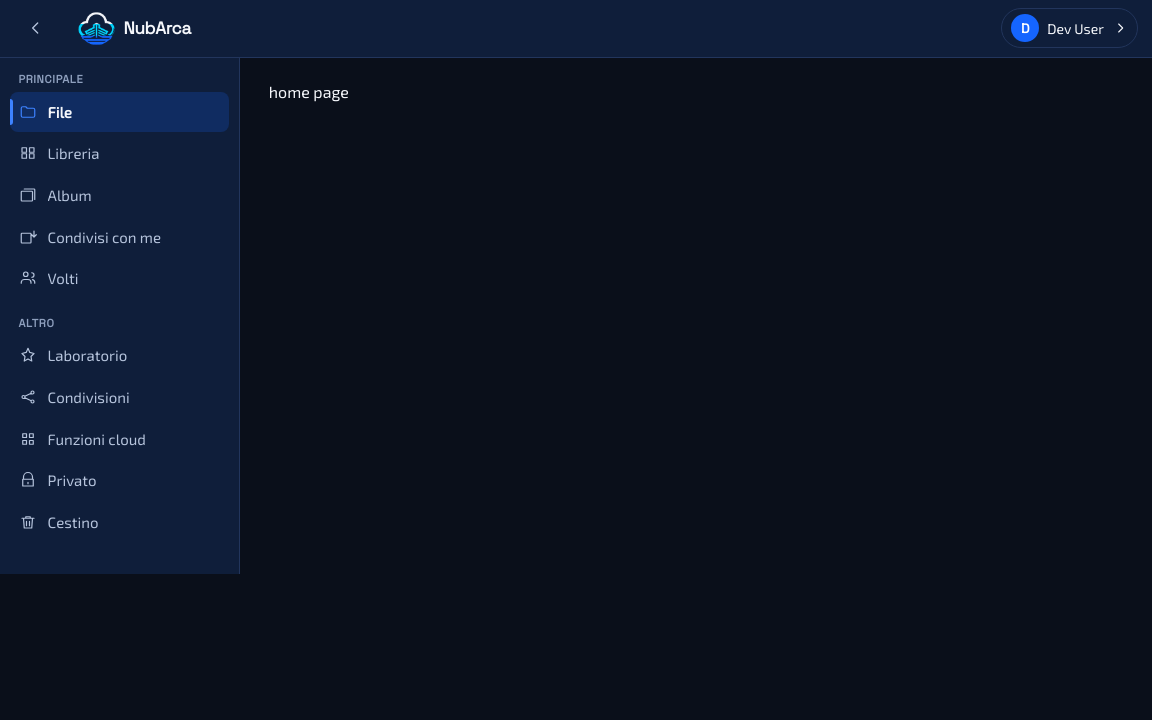
Scenario: Layout user menu › gathers identity, account, language, theme and sign out in one popover
The width and height of the screenshot is (1152, 720).
Click the button with test id "user-menu-trigger" at [1070, 28], box [1001,8,1138,48]
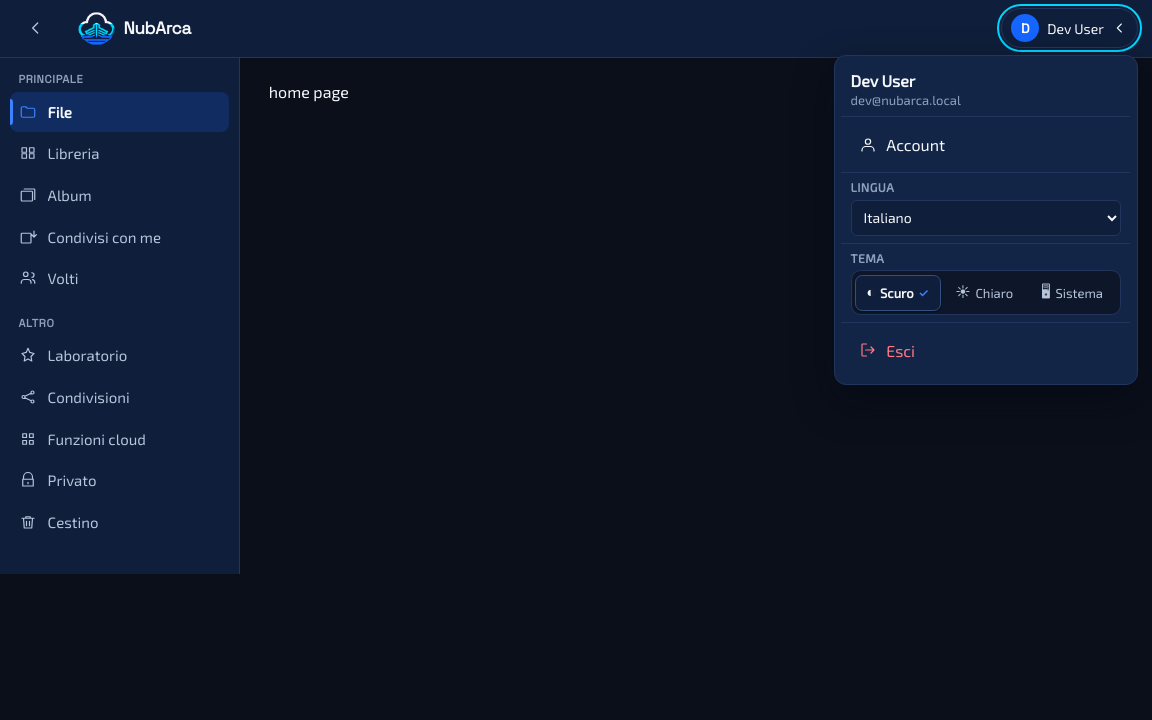
Result: the 2nd text "Dev User" is shown at [851,71,915,90]
Result: the text "dev@nubarca.local" is shown at [851,92,961,108]
Result: the dropdown labelled "Lingua" is shown at [851,200,1121,236]
